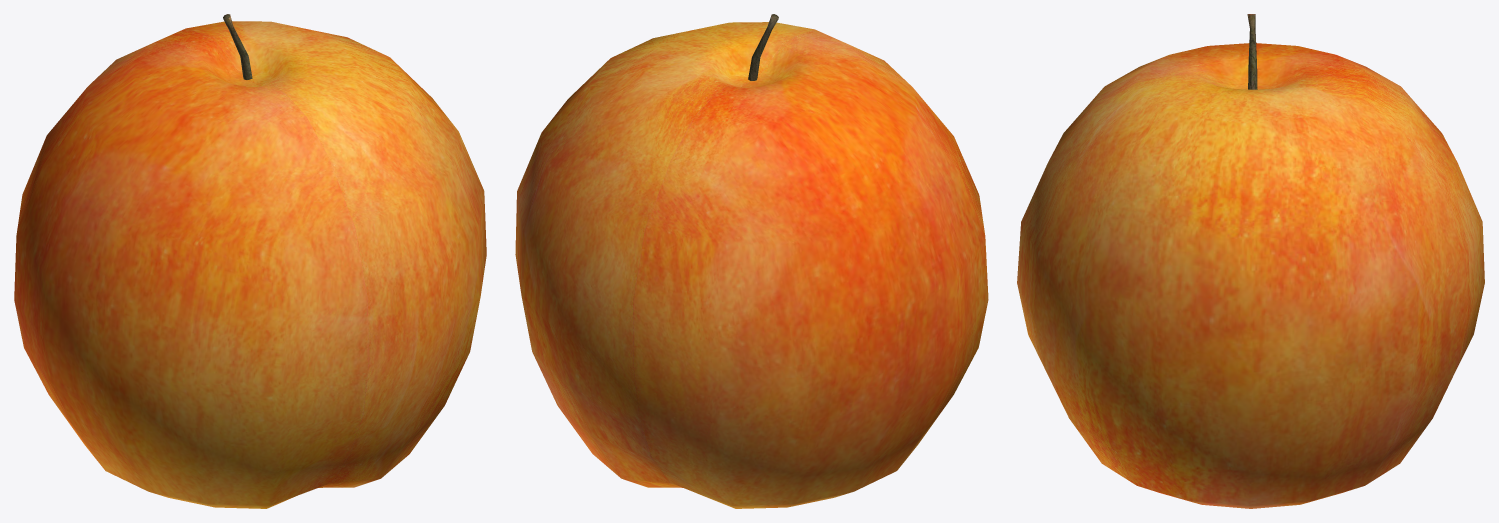
Rendered from apel.fbx.
The picture shows the model from 3 angles, left to right: view 1: azimuth 30°, elevation 25°; view 2: azimuth 150°, elevation 25°; view 3: azimuth 270°, elevation 25°; orthographic projection. The views are drawn at different scales.
Parts seen in each view (by area): view 1: Circle; view 2: Circle; view 3: Circle.
Part boxes in pixels (x1,y1,x2,y2): Circle: (14,14,486,508); Circle: (515,14,988,508); Circle: (1017,14,1484,508).
Bounding box in the file's own units: 52.59 × 54.84 × 53.13.
Materials: 1 (1 with a texture image).
